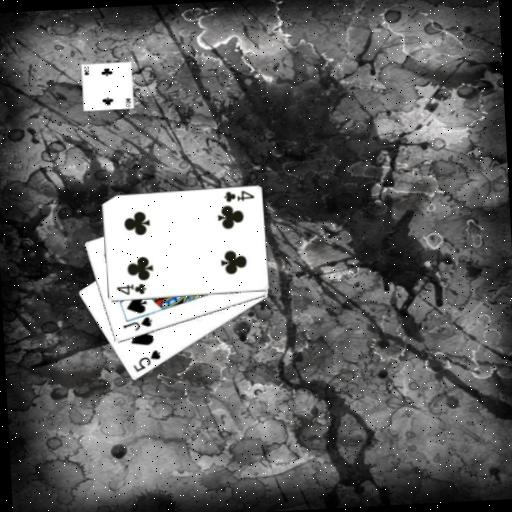4C: (221, 188, 257, 205), (113, 281, 148, 298)
5S: (130, 348, 164, 375)
JS: (120, 314, 154, 334)
